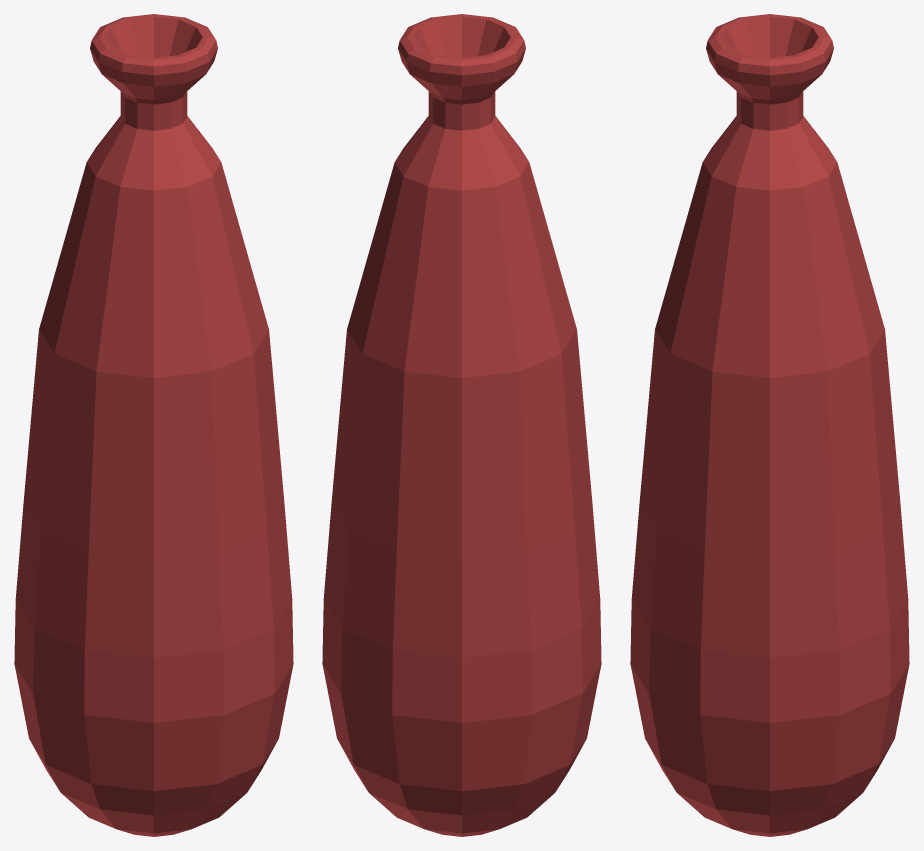
Rendered from Pot02.fbx.
3 views of the same model, side by side, from view 1: azimuth 30°, elevation 25°; view 2: azimuth 150°, elevation 25°; view 3: azimuth 270°, elevation 25° (orthographic).
Parts seen in each view (by area): view 1: Pot02; view 2: Pot02; view 3: Pot02.
Part boxes in pixels (<box>): Pot02: <box>14,14,293,836</box>; Pot02: <box>322,14,601,836</box>; Pot02: <box>630,14,909,836</box>.
Bounding box in the file's own units: 48.35 × 150 × 48.35.
